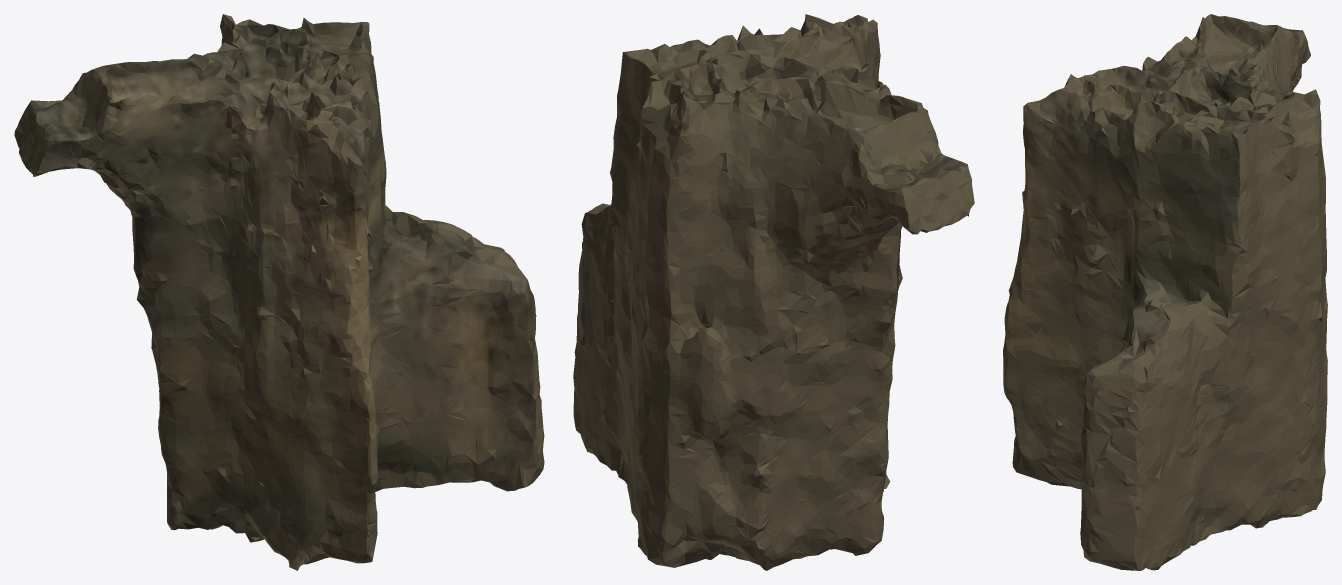
3 views of the same model, side by side, from view 1: azimuth 30°, elevation 25°; view 2: azimuth 150°, elevation 25°; view 3: azimuth 270°, elevation 25° (orthographic). The views are drawn at different scales.
Visible parts, largest first — view 1: painted, wall, roof; view 2: wall, roof, painted; view 3: wall, painted, roof.
Boxes of the visible parts, x1,y1,x2,y2 form: painted: [30, 19, 536, 543]; wall: [14, 14, 544, 570]; roof: [17, 14, 542, 568]; wall: [573, 15, 974, 570]; roof: [585, 14, 971, 559]; painted: [623, 16, 968, 515]; wall: [1005, 19, 1327, 570]; painted: [1003, 14, 1302, 488]; roof: [1067, 14, 1325, 560].
Size of the model in its own units: 2.87 by 2.82 by 2.02.
3 materials, 3 textured.
